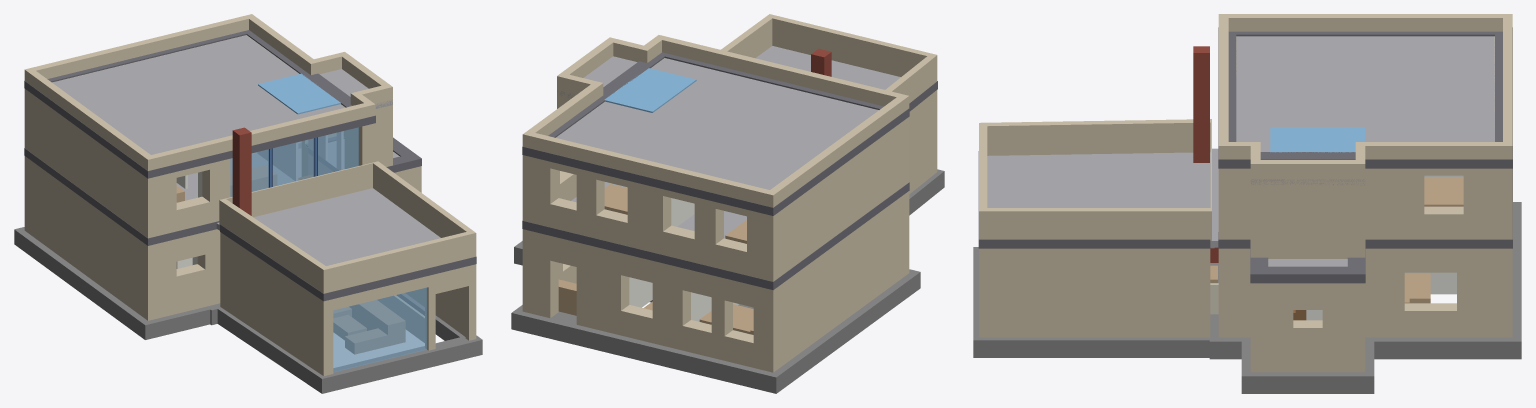
File: casa_v6.glb
3 views of the same model, side by side, from view 1: azimuth 30°, elevation 25°; view 2: azimuth 150°, elevation 25°; view 3: azimuth 270°, elevation 25° (orthographic). The views are drawn at different scales.
Visible parts, largest first — view 1: muros_PB, forjado_cubierta, muros_PA, parapeto_terraza, parapeto_cubierta, cimentacion, forjado_PB_PA, cristal_PB, zuncho_cubierta, zuncho_forjado, cristal_PA, mobiliario (+5 smaller); view 2: muros_PB, muros_PA, forjado_cubierta, parapeto_cubierta, cimentacion, parapeto_terraza, zuncho_cubierta, zuncho_forjado, forjado_PB_PA, mobiliario, lucernario, tabiques_PB (+2 smaller); view 3: muros_PB, forjado_cubierta, muros_PA, parapeto_terraza, cimentacion, parapeto_cubierta, forjado_PB_PA, zuncho_forjado, zuncho_cubierta, lucernario, mobiliario, chimenea (+1 smaller).
Part boxes in pixels (left/top/right/bottom): muros_PB: left=24, top=143, right=476, bottom=375; forjado_cubierta: left=52, top=35, right=392, bottom=154; muros_PA: left=24, top=35, right=392, bottom=238; parapeto_terraza: left=219, top=161, right=476, bottom=293; parapeto_cubierta: left=24, top=14, right=392, bottom=170; cimentacion: left=14, top=227, right=482, bottom=393; forjado_PB_PA: left=176, top=139, right=440, bottom=265; cristal_PB: left=333, top=287, right=427, bottom=372; zuncho_cubierta: left=24, top=30, right=375, bottom=178; zuncho_forjado: left=24, top=137, right=476, bottom=301; cristal_PA: left=230, top=127, right=358, bottom=197; mobiliario: left=176, top=165, right=405, bottom=354; muros_PB: left=522, top=90, right=937, bottom=372; muros_PA: left=522, top=58, right=909, bottom=281; forjado_cubierta: left=556, top=56, right=878, bottom=189; parapeto_cubierta: left=522, top=35, right=909, bottom=207; cimentacion: left=511, top=169, right=944, bottom=393; parapeto_terraza: left=721, top=14, right=937, bottom=103; zuncho_cubierta: left=522, top=52, right=909, bottom=215; zuncho_forjado: left=522, top=81, right=937, bottom=290; forjado_PB_PA: left=571, top=46, right=900, bottom=238; mobiliario: left=558, top=184, right=753, bottom=334; lucernario: left=604, top=68, right=696, bottom=112; tabiques_PB: left=629, top=277, right=738, bottom=321; muros_PB: left=979, top=248, right=1512, bottom=372; forjado_cubierta: left=1236, top=36, right=1494, bottom=185; muros_PA: left=1218, top=36, right=1512, bottom=258; parapeto_terraza: left=979, top=119, right=1211, bottom=240; cimentacion: left=973, top=202, right=1521, bottom=393; parapeto_cubierta: left=1218, top=14, right=1512, bottom=178; forjado_PB_PA: left=987, top=148, right=1347, bottom=266; zuncho_forjado: left=978, top=151, right=1512, bottom=283; zuncho_cubierta: left=1218, top=27, right=1512, bottom=168; lucernario: left=1270, top=127, right=1365, bottom=152; mobiliario: left=1210, top=177, right=1463, bottom=303; chimenea: left=1193, top=46, right=1218, bottom=262.
Size of the model in its own units: 12.6 by 7.56 by 16.75.
